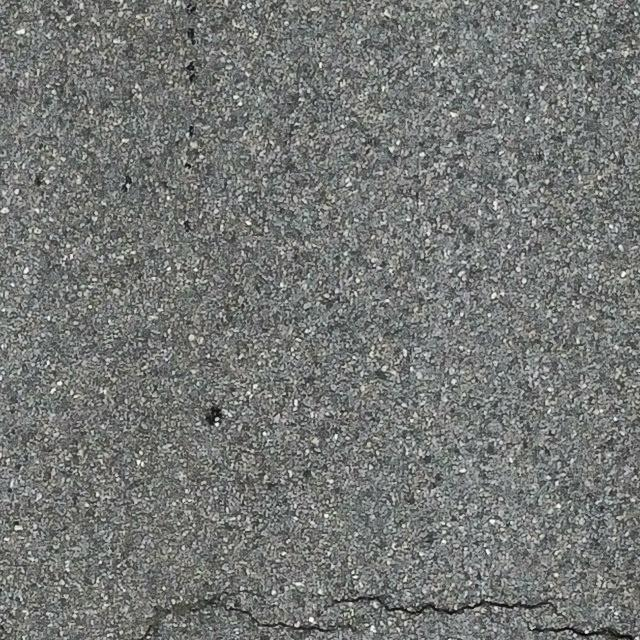TransverseCrack: (182, 589, 640, 640)
